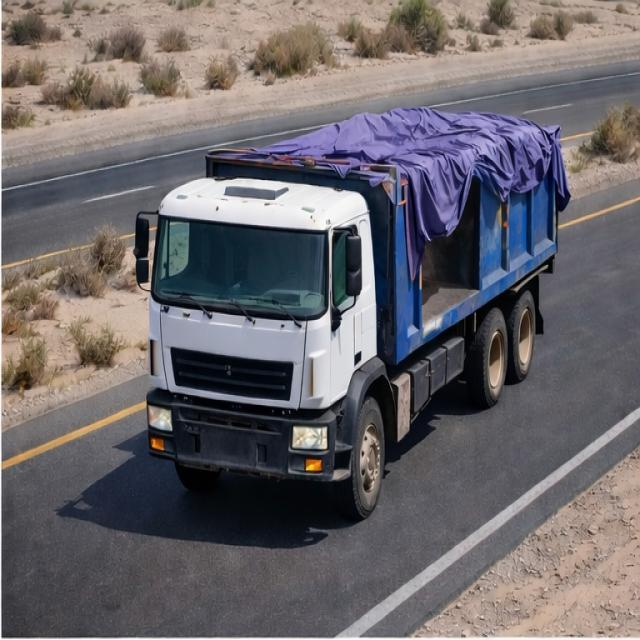trailer: (203, 100, 563, 196)
truck: (130, 62, 564, 500)
